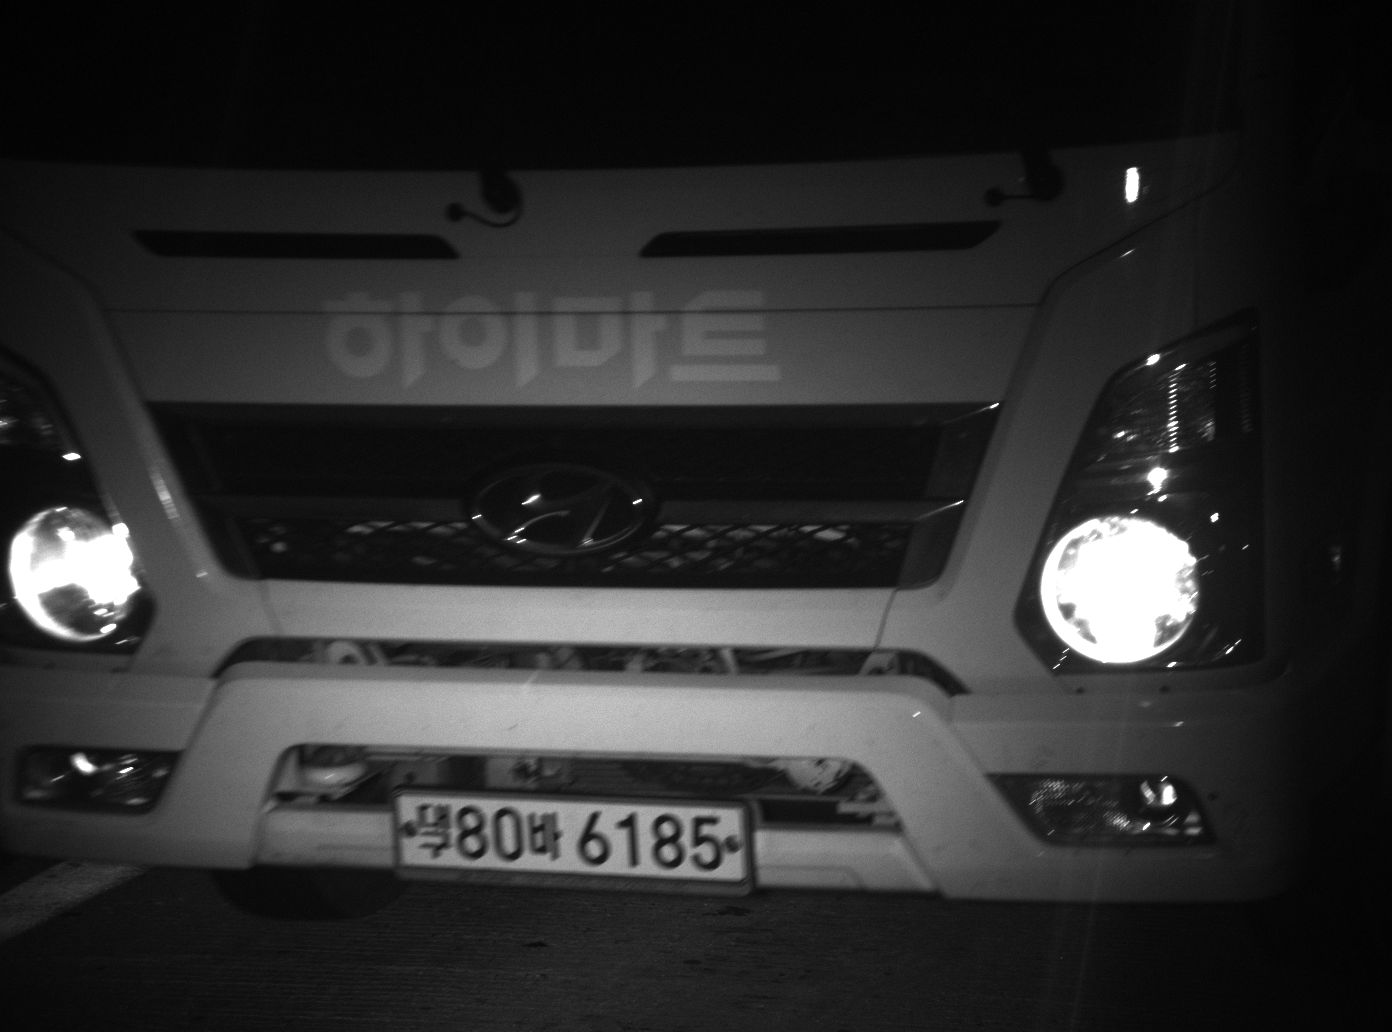car: (1, 1, 1385, 920)
plate: (389, 787, 756, 890)
